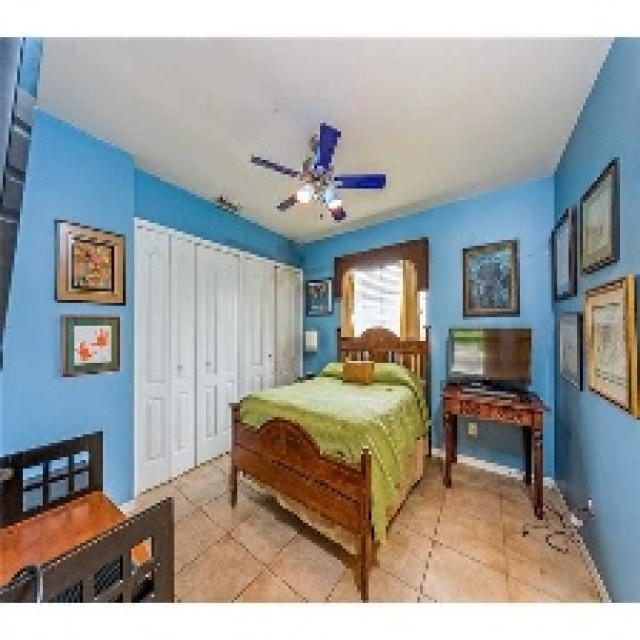Bed: (226, 323, 431, 600)
